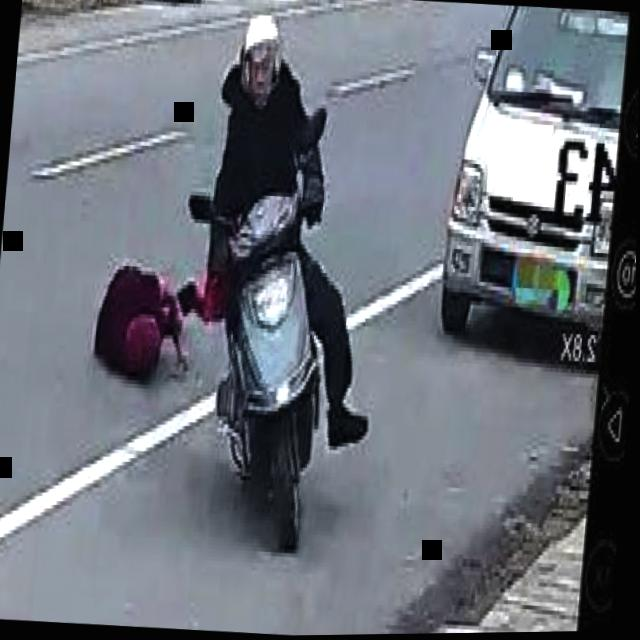Fall-Detected: (83, 228, 211, 397)
